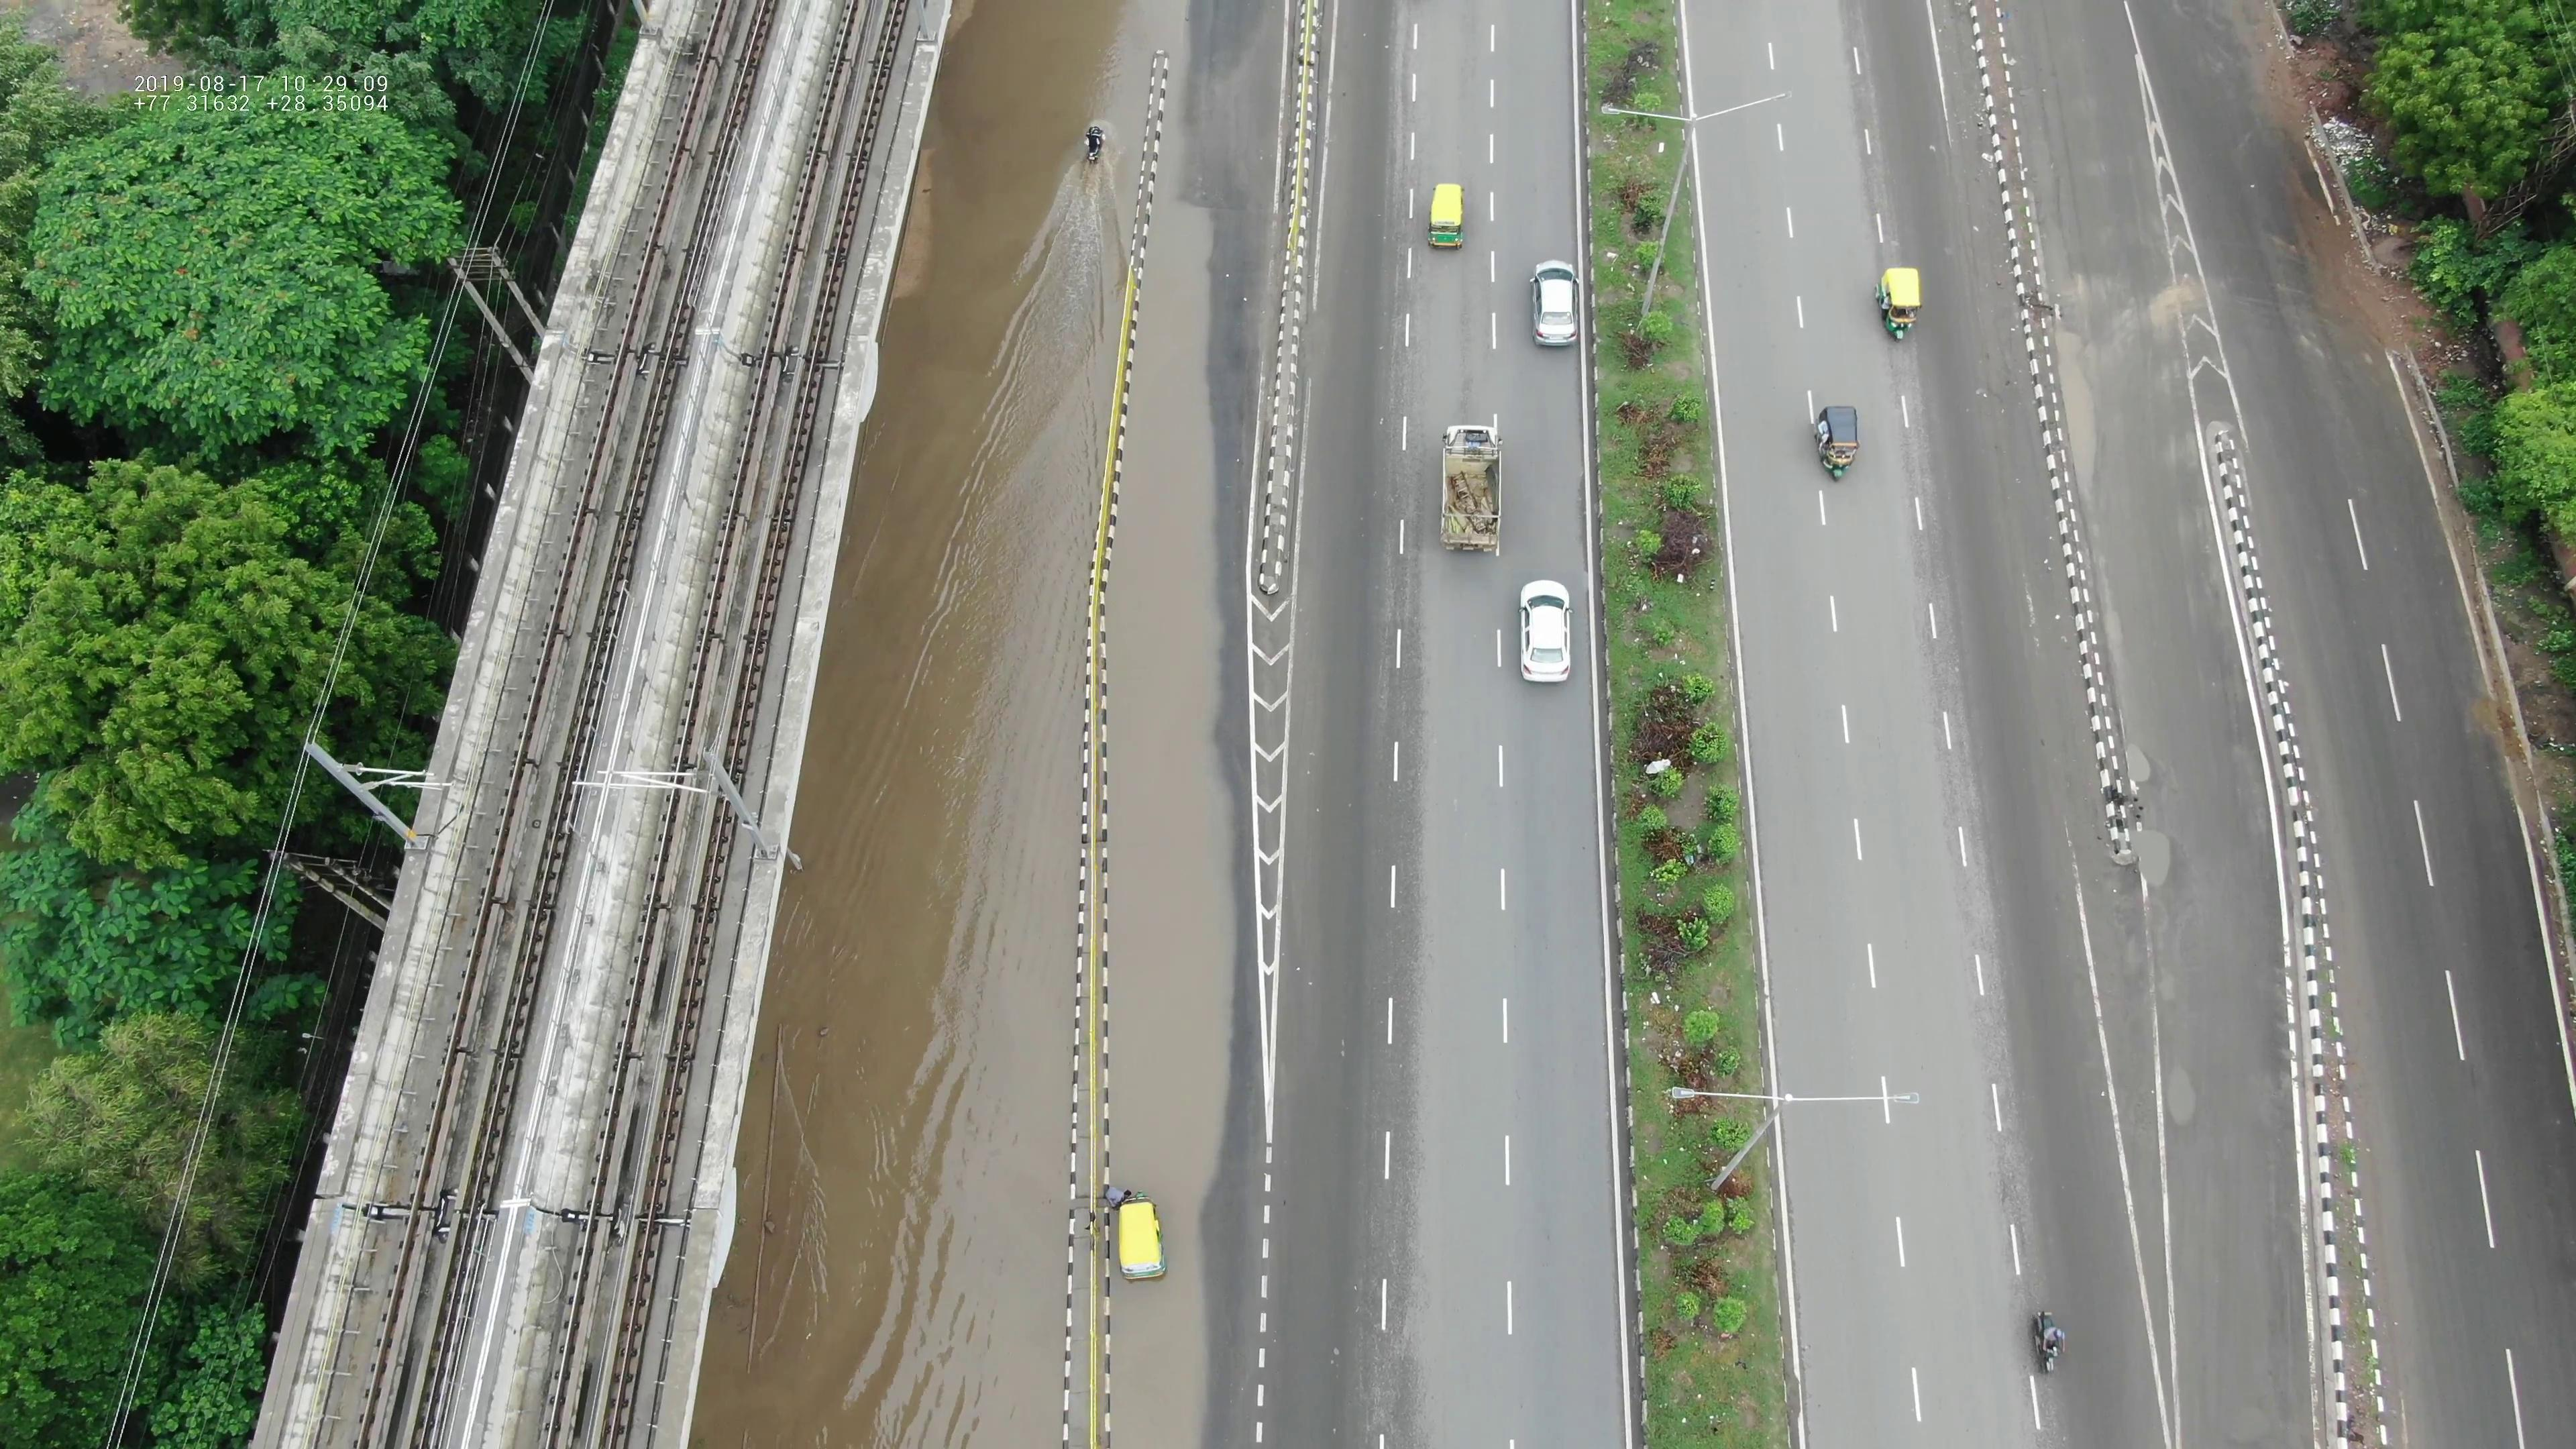Potholes: (2143, 1040, 2224, 1161), (2118, 800, 2187, 916), (2118, 727, 2169, 801)
Waterlogging: (711, 977, 1198, 1440), (718, 547, 1247, 948), (796, 154, 1240, 518), (2051, 297, 2125, 533)
